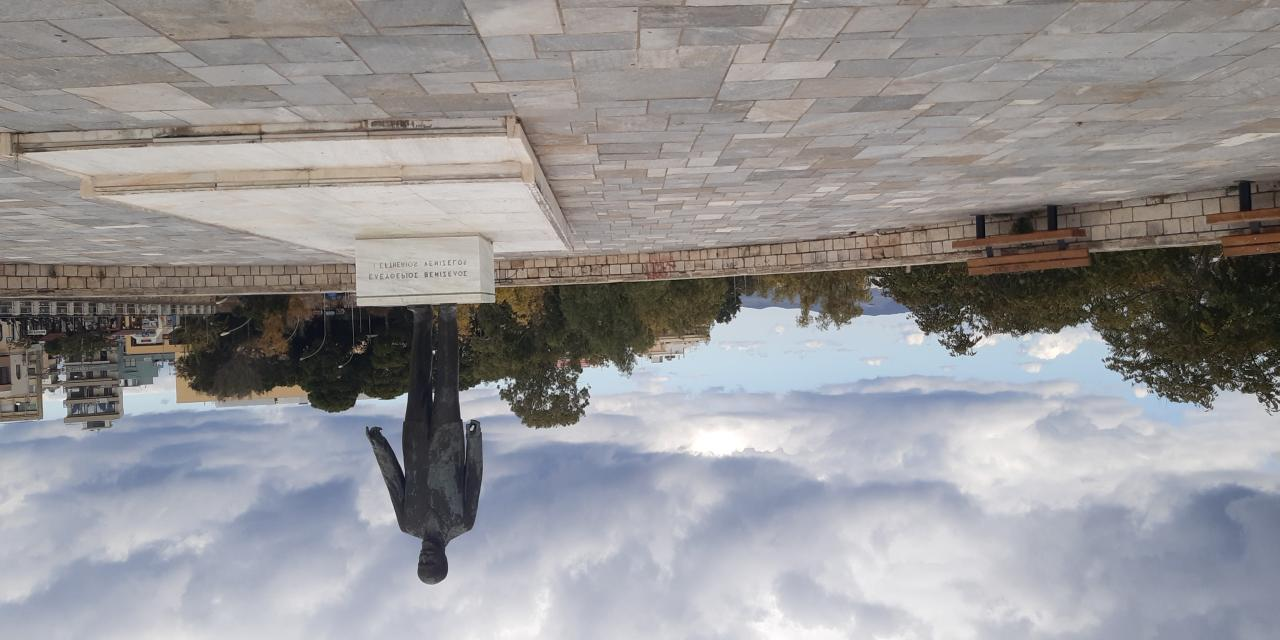Venizelos: (368, 304, 484, 586)
